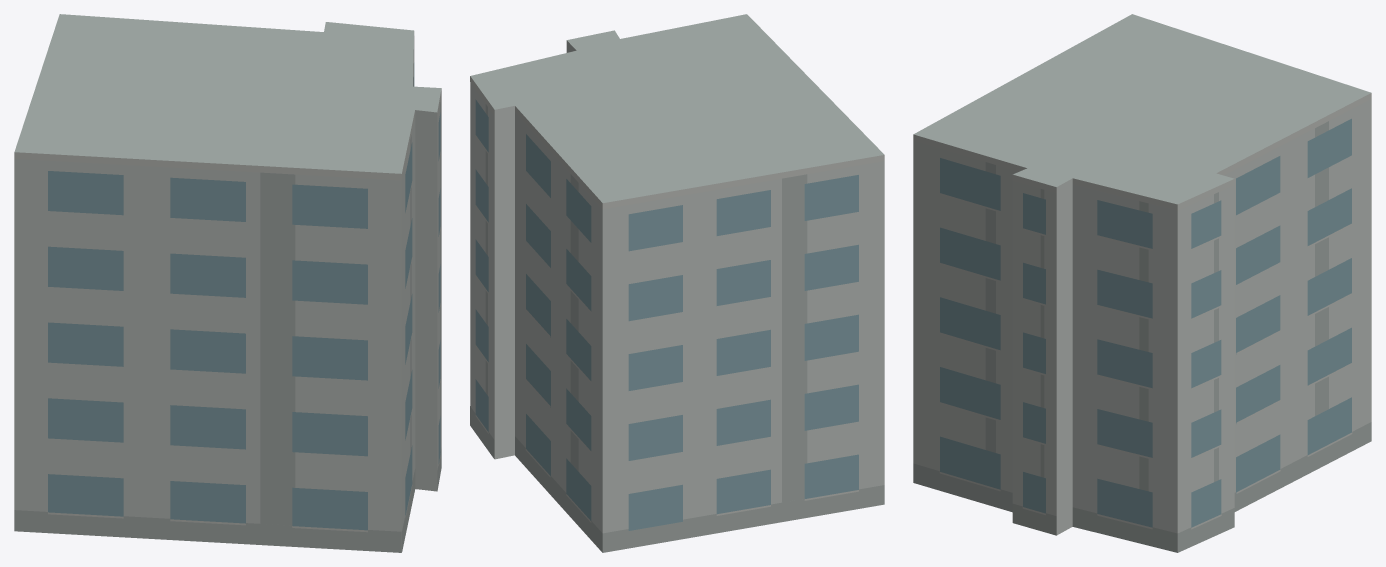
The model's file is survey-upis-32890156.glb.
The picture shows the model from 3 angles, left to right: view 1: azimuth 30°, elevation 25°; view 2: azimuth 150°, elevation 25°; view 3: azimuth 270°, elevation 25°; orthographic projection. The views are drawn at different scales.
Visible parts, largest first — view 1: survey-upis-32890156.tmp; view 2: survey-upis-32890156.tmp; view 3: survey-upis-32890156.tmp.
Part boxes in pixels (x1,y1,x2,y2): survey-upis-32890156.tmp: (14,14,441,552); survey-upis-32890156.tmp: (470,14,884,552); survey-upis-32890156.tmp: (913,14,1371,552).
Size of the model in its own units: 16.25 by 13.85 by 16.52.
